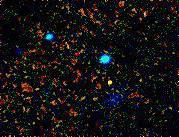star: (93, 70, 123, 100)
